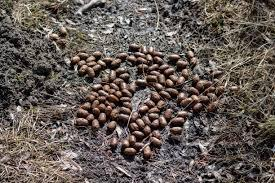Elk: (76, 52, 180, 145)
